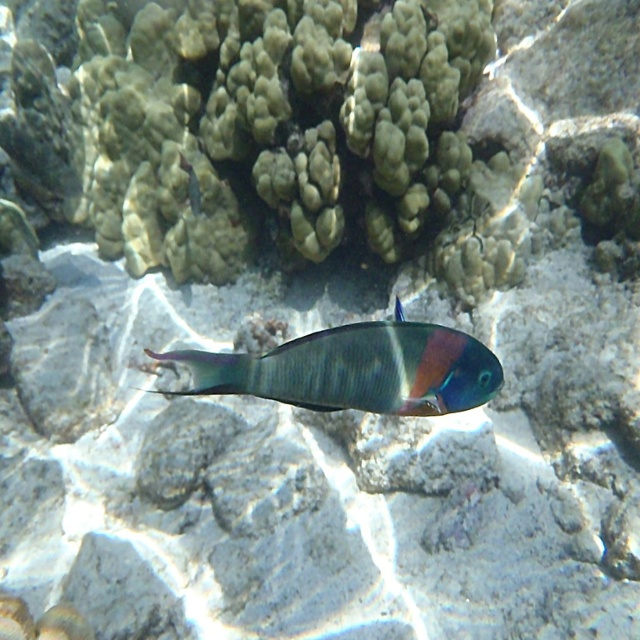Fish: (146, 297, 501, 418), (179, 154, 198, 220)
